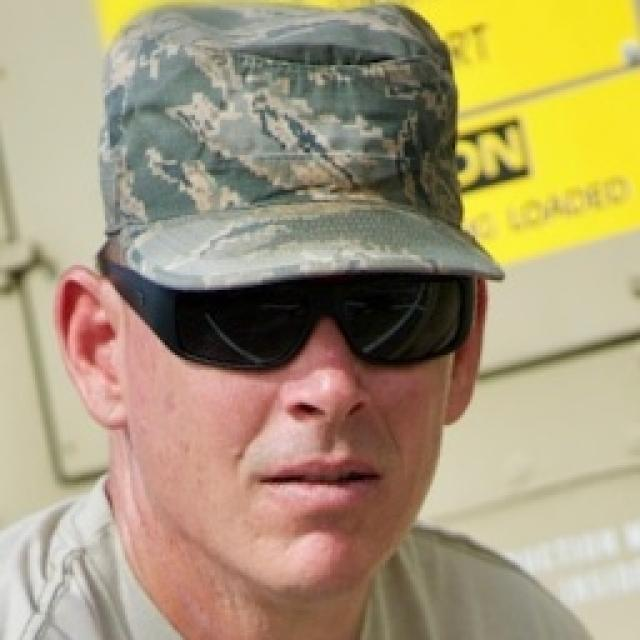glasses: (112, 247, 500, 377)
